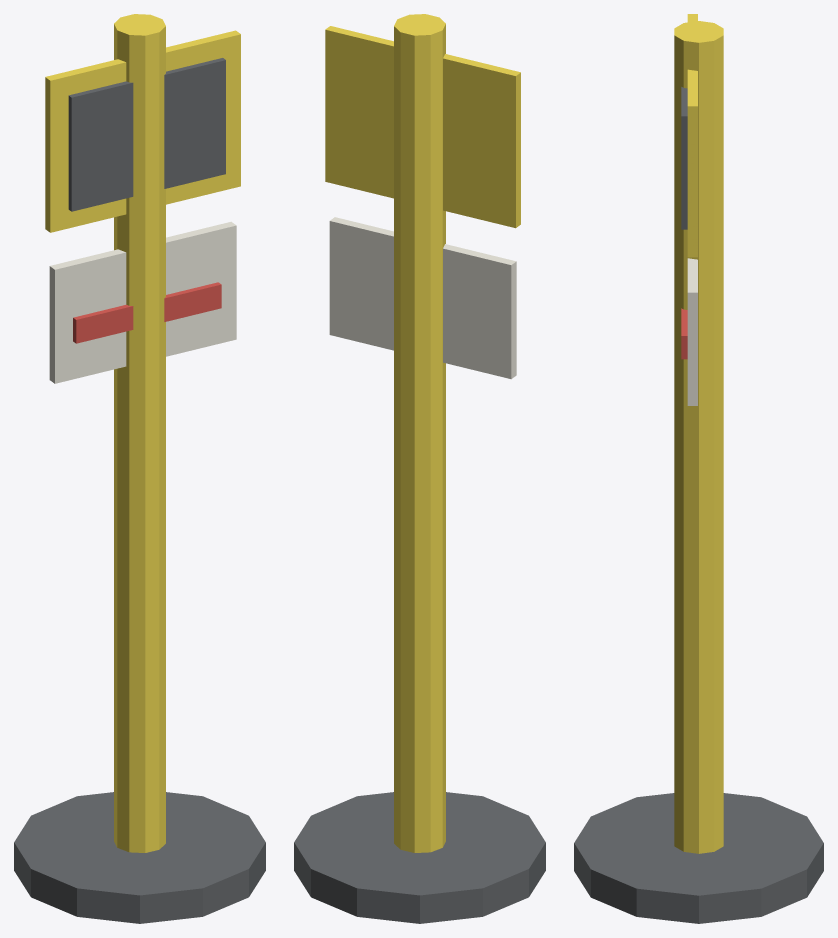
Rendered from free-standing-safety-sign-post.glb.
The picture shows the model from 3 angles, left to right: view 1: azimuth 30°, elevation 25°; view 2: azimuth 150°, elevation 25°; view 3: azimuth 270°, elevation 25°; orthographic projection.
Parts seen in each view (by area): view 1: machine-shop-and-factory-hall-warning-sign-post; view 2: machine-shop-and-factory-hall-warning-sign-post; view 3: machine-shop-and-factory-hall-warning-sign-post.
Boxes of the visible parts, x1,y1,x2,y2 form: machine-shop-and-factory-hall-warning-sign-post: (14, 14, 265, 923); machine-shop-and-factory-hall-warning-sign-post: (294, 14, 545, 923); machine-shop-and-factory-hall-warning-sign-post: (574, 14, 823, 923).
Bounding box in the file's own units: 0.4799 × 1.78 × 0.4799.
